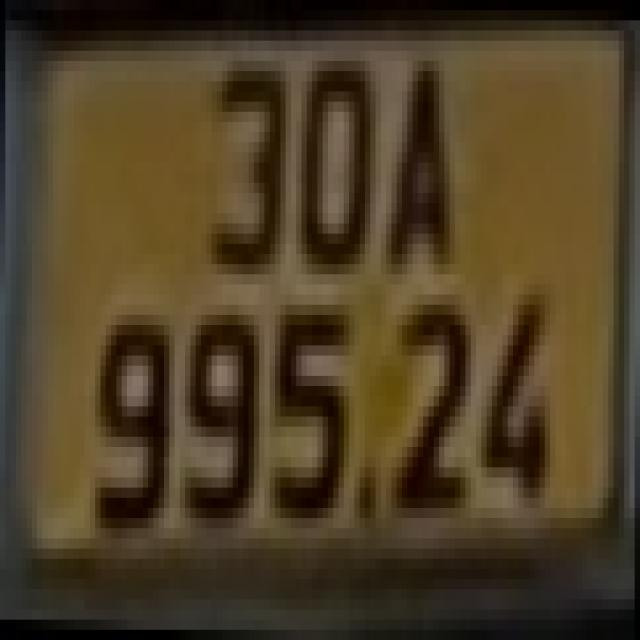0: (296, 51, 376, 274)
2: (391, 295, 471, 508)
3: (206, 61, 291, 274)
4: (482, 284, 556, 508)
5: (270, 295, 349, 518)
9: (90, 305, 169, 528), (180, 305, 259, 518)
A: (381, 51, 460, 274)
